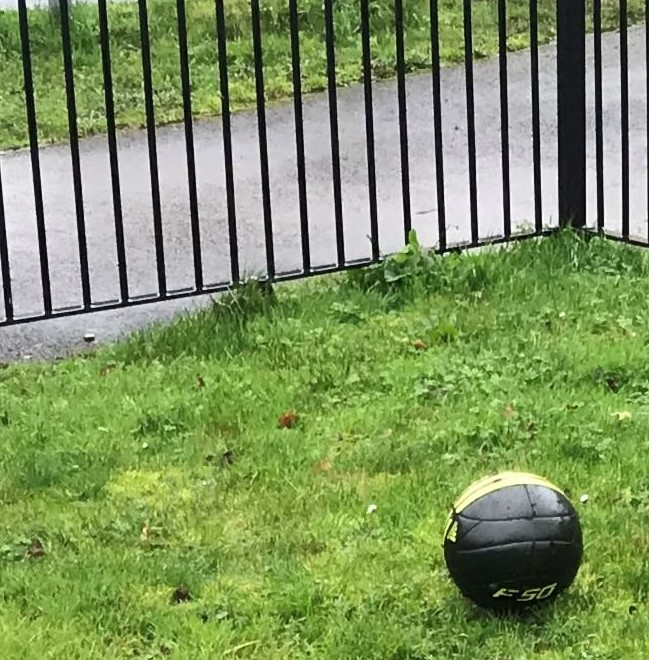football: (440, 463, 602, 627)
